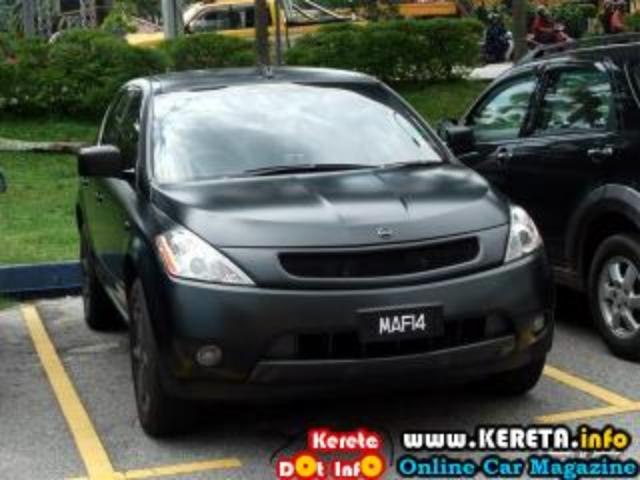License_Plate: (360, 304, 447, 350)
